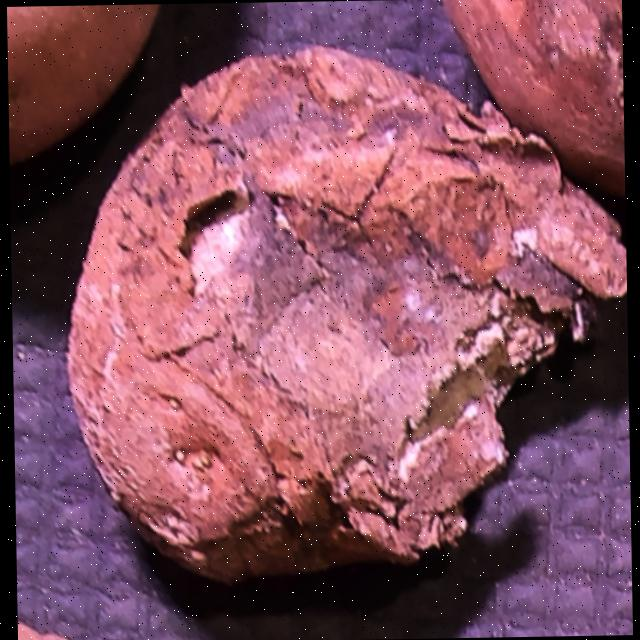Damaged potato: (48, 29, 632, 598)
